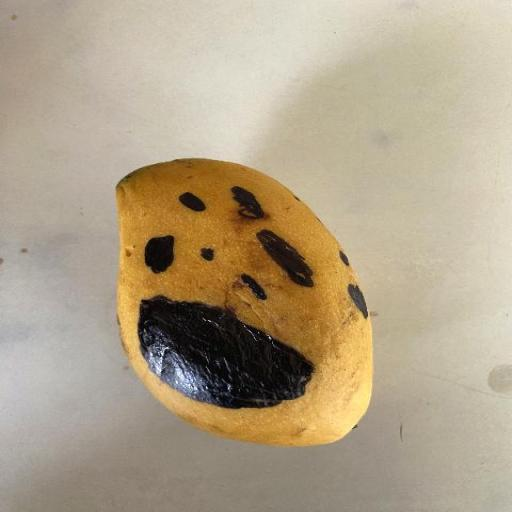mango-overripe: (70, 123, 399, 472)
